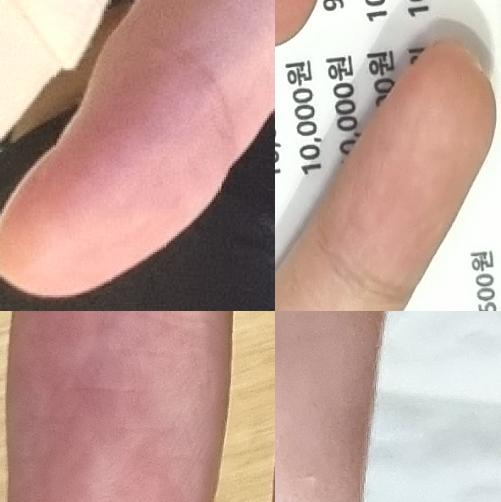Fingerprints: (0, 48, 230, 296), (322, 44, 496, 299), (5, 311, 232, 502), (275, 311, 385, 502)
